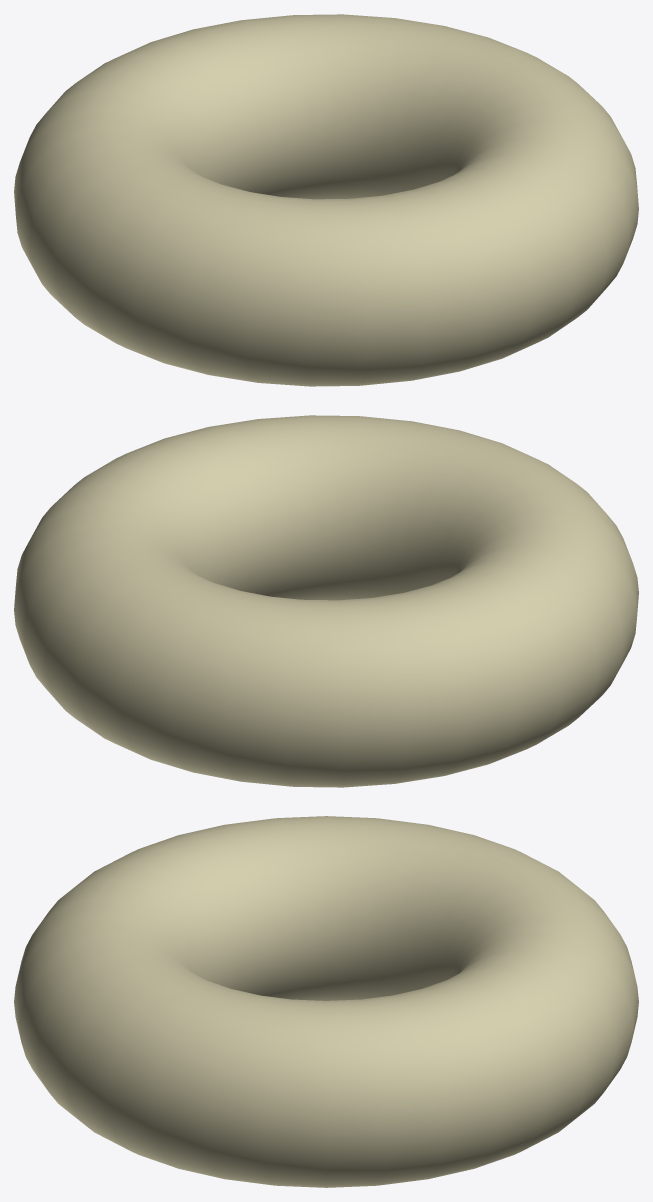
3 renders of one model, top to bottom at view 1: azimuth 30°, elevation 25°; view 2: azimuth 150°, elevation 25°; view 3: azimuth 270°, elevation 25°, orthographic.
Visible parts, largest first — view 1: Shape_Torus; view 2: Shape_Torus; view 3: Shape_Torus.
Part boxes in pixels (left/top/right/bottom): Shape_Torus: left=14, top=14, right=638, bottom=386; Shape_Torus: left=14, top=415, right=638, bottom=787; Shape_Torus: left=14, top=816, right=638, bottom=1187.
Size of what is drawn, in the model's own units: 100 by 100 by 30.
